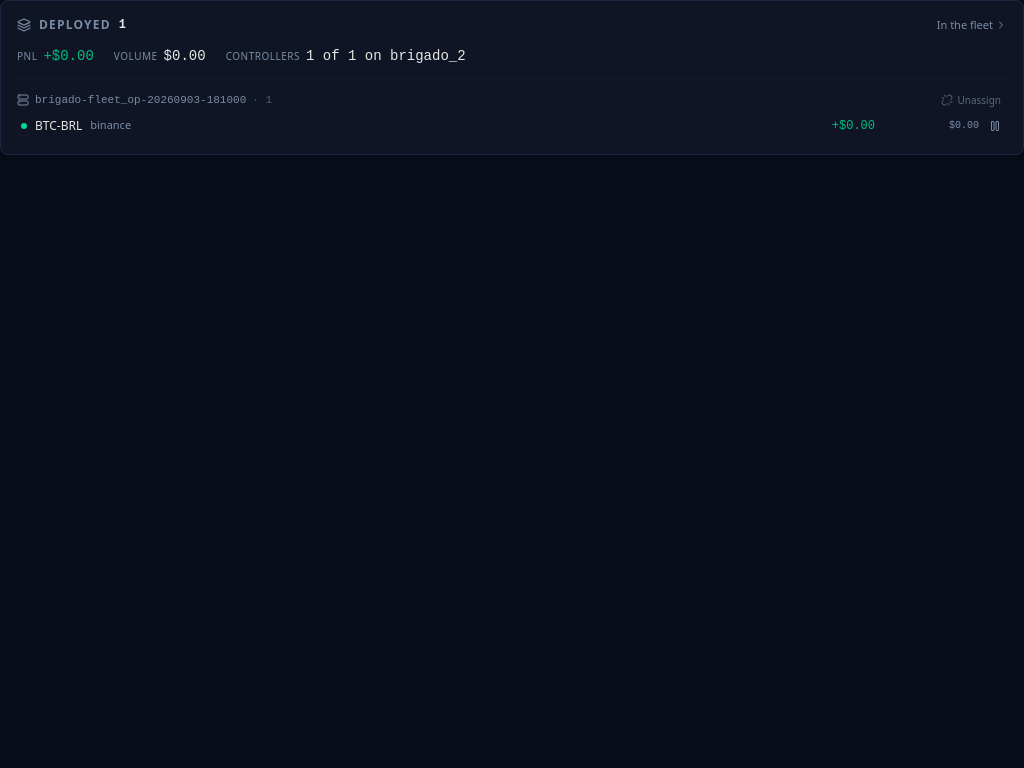
handing a bot back › asks before it moves the money off the page
Click the button "Unassign" at coordinates (971, 100), box [935,90,1007,110]
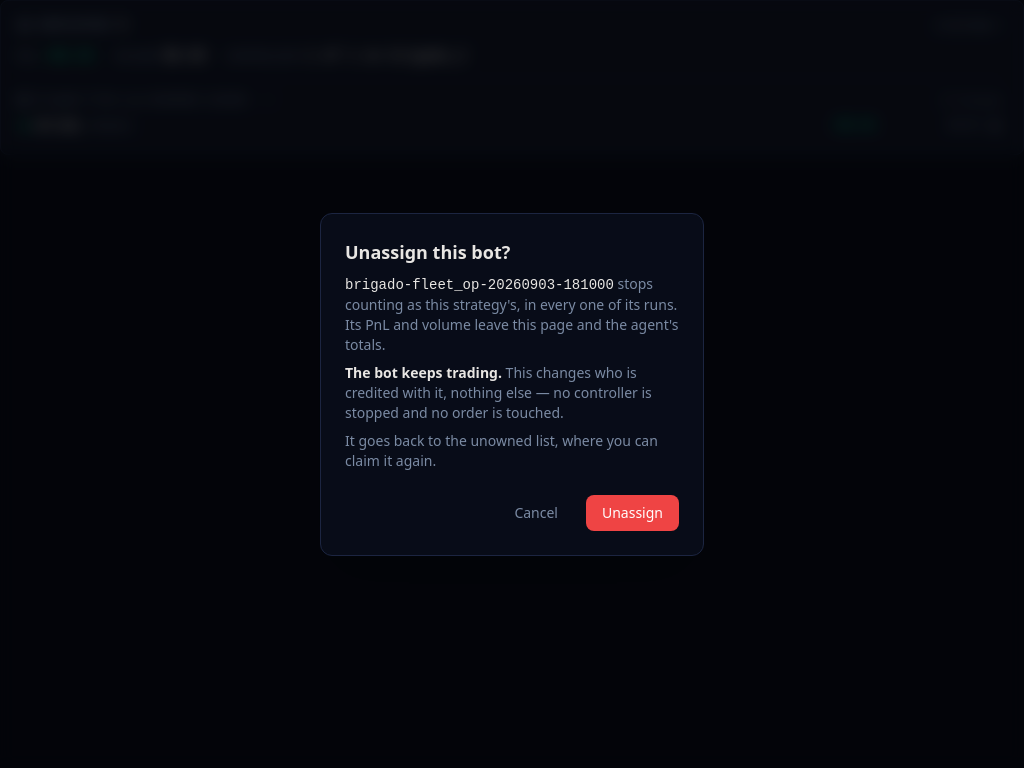
Expected: the text "Unassign this bot?" is shown, [345,240,510,264]
Expected: the text "The bot keeps trading." is shown, [345,362,502,382]
